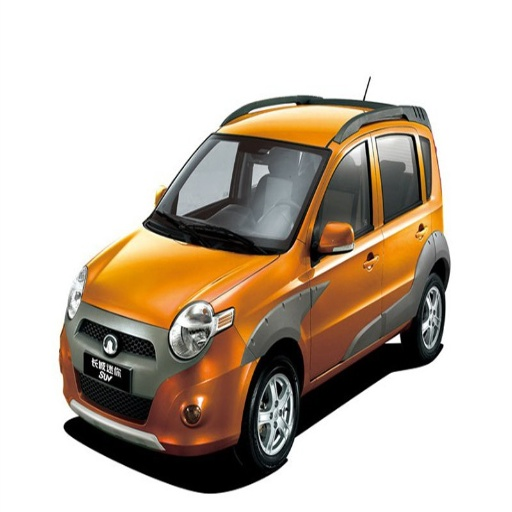front_bumper: (65, 303, 257, 455)
front_glass: (145, 135, 330, 253)
front_left_door: (311, 131, 384, 378)
